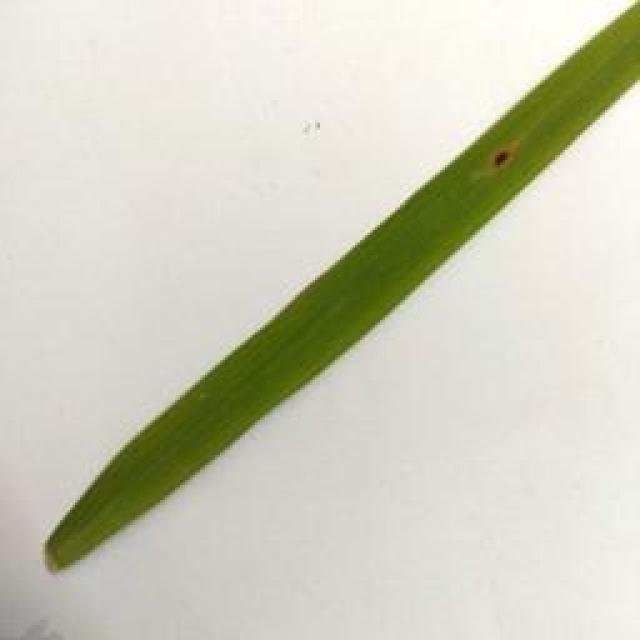Brown_Spot: (482, 142, 531, 178)
